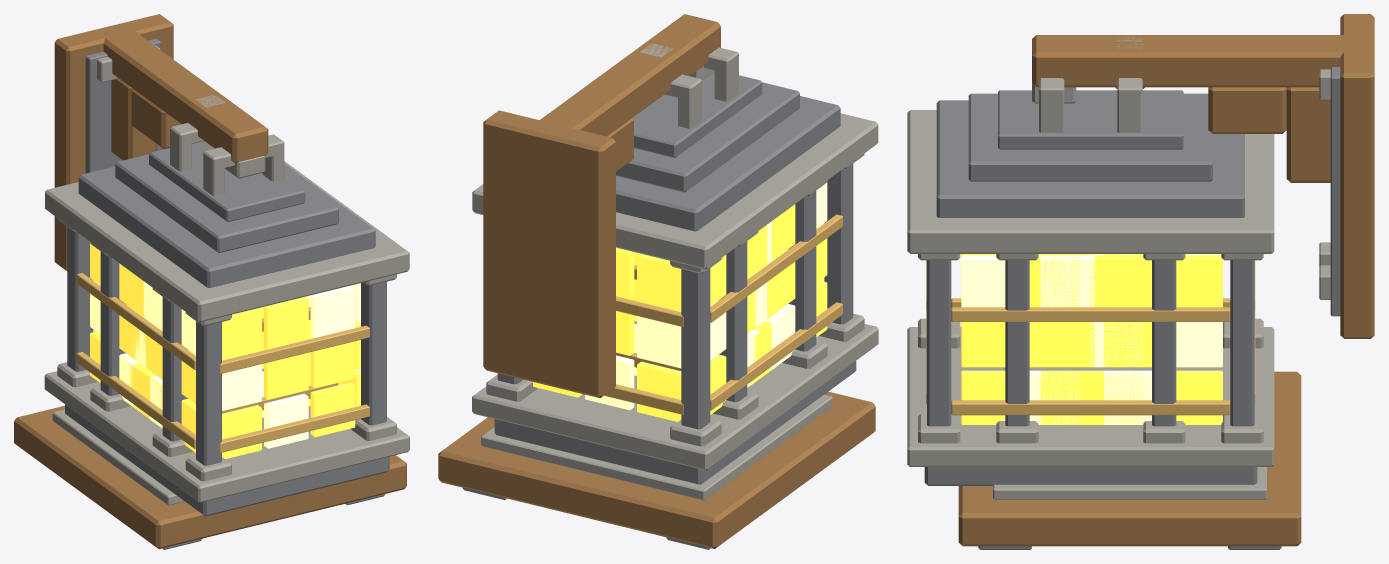
The model's file is lantern.gltf.
The picture shows the model from 3 angles, left to right: view 1: azimuth 30°, elevation 25°; view 2: azimuth 150°, elevation 25°; view 3: azimuth 270°, elevation 25°; orthographic projection. The views are drawn at different scales.
Size of the model in its own units: 0.7 by 1 by 0.955.
